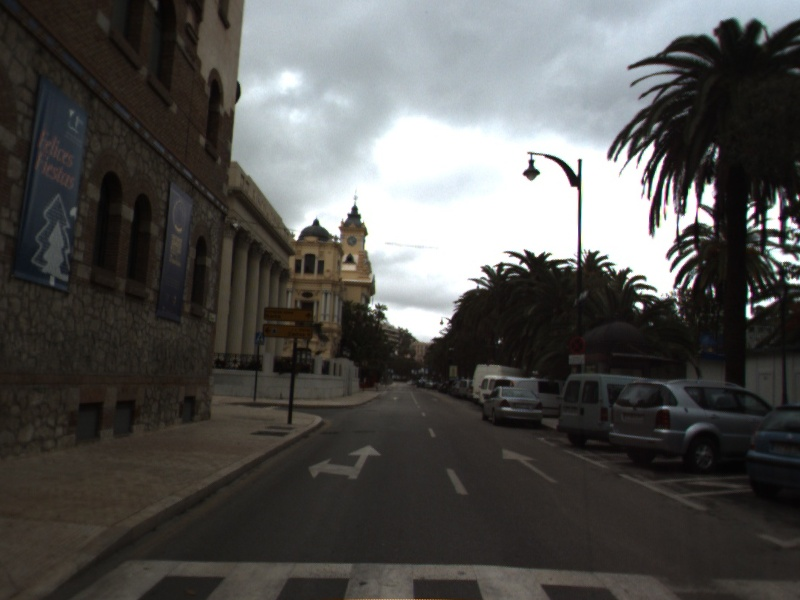STRAIGHT: (500, 445, 561, 484)
STRAIGHT_LEFT: (305, 442, 384, 481)
